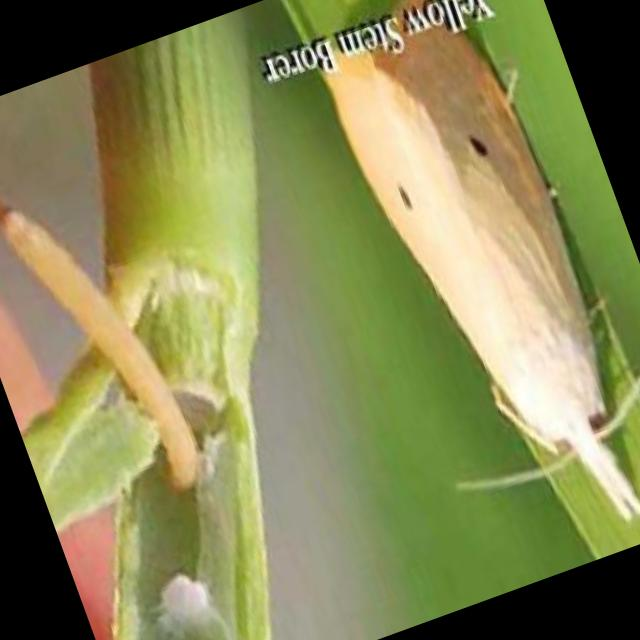stem-borer: (325, 27, 640, 574)
